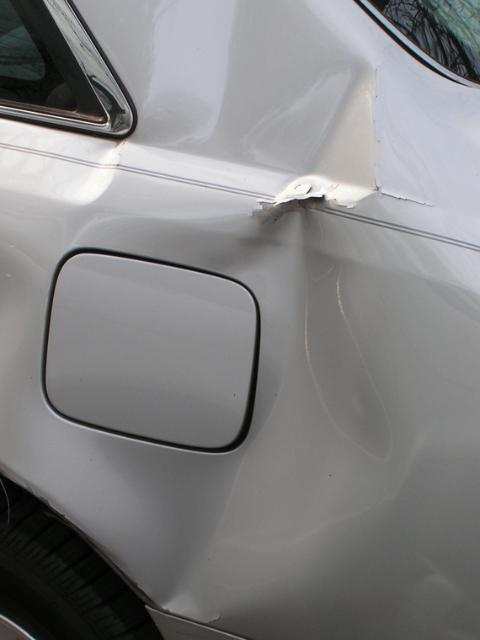Fender: (98, 0, 480, 637)
